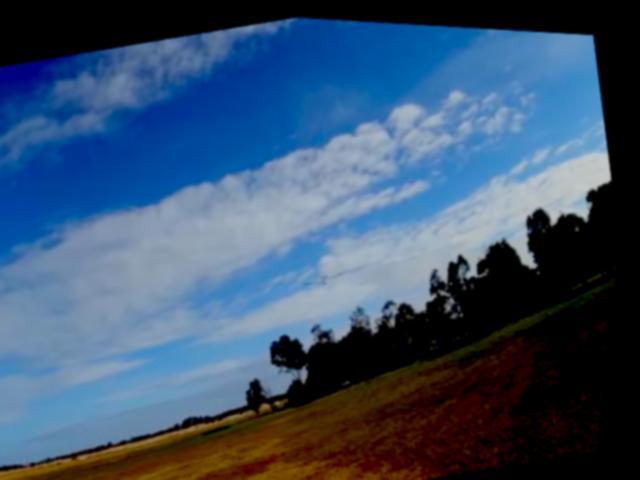uav: (301, 254, 359, 293)
